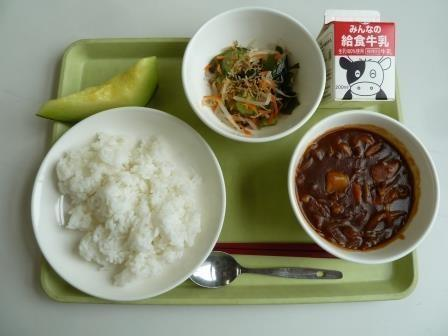Milk: (311, 5, 411, 113)
Rice: (37, 123, 222, 289)
Salad: (198, 26, 305, 138)
melon: (35, 56, 163, 126)
soup-plain: (294, 118, 438, 255)
